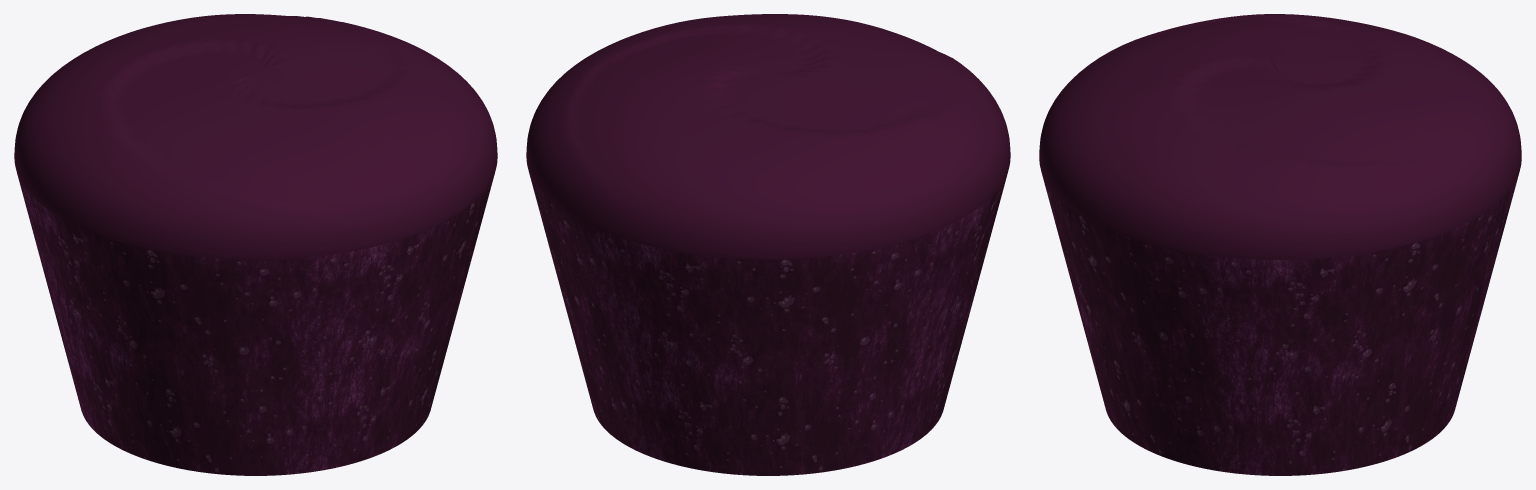
The model's file is base-acai-isopor-gg.glb.
3 views of the same model, side by side, from view 1: azimuth 30°, elevation 25°; view 2: azimuth 150°, elevation 25°; view 3: azimuth 270°, elevation 25° (orthographic).
Parts seen in each view (by area): view 1: base-acai-isopor-gg; view 2: base-acai-isopor-gg; view 3: base-acai-isopor-gg.
Boxes of the visible parts, left/top/right/bottom form: base-acai-isopor-gg: left=14, top=14, right=497, bottom=475; base-acai-isopor-gg: left=526, top=14, right=1010, bottom=475; base-acai-isopor-gg: left=1039, top=14, right=1521, bottom=475.
Size of the model in its own units: 0.1415 by 0.1067 by 0.1415.
Materials: 2 (1 with a texture image).
